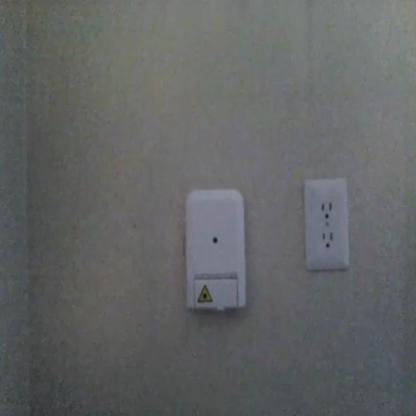OUTLET: (303, 178, 349, 270)
